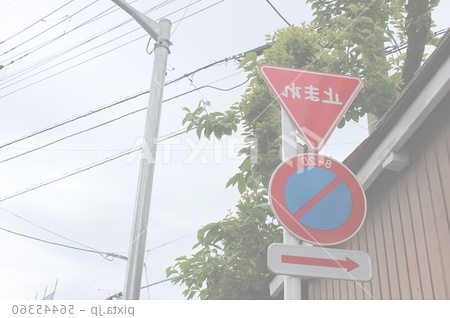Prohibition_sign: (259, 152, 366, 259)
